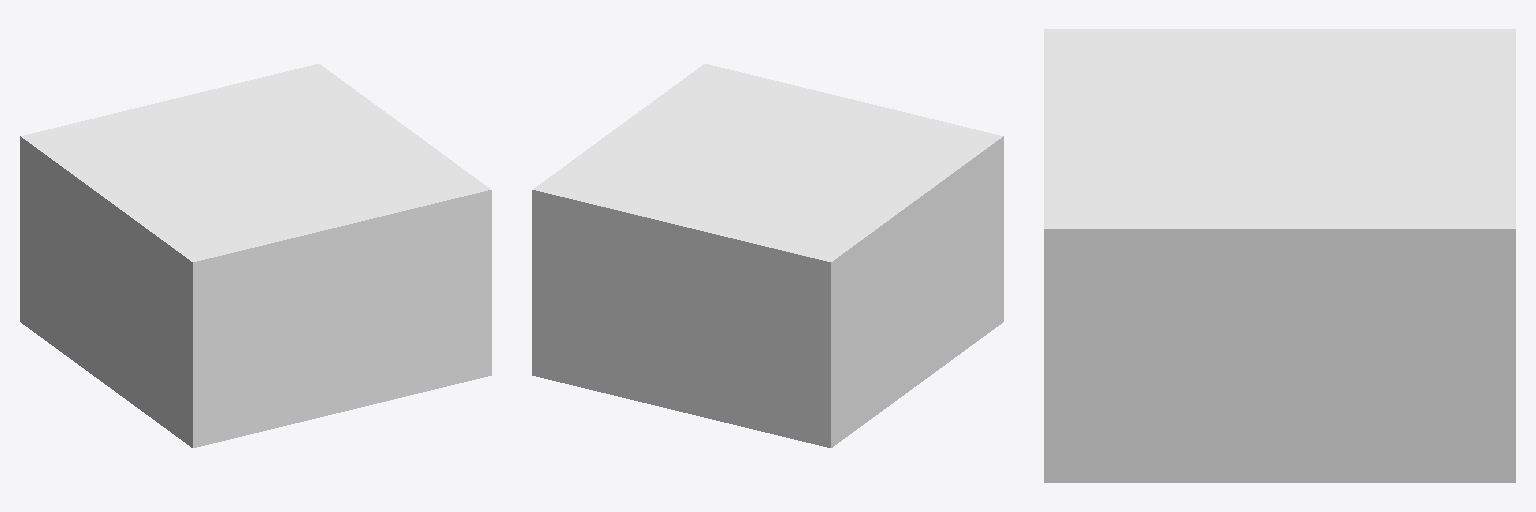
robot.urdf — rosbot:
<?xml version="1.0" ?>
<robot name="rosbot">
  <link name="base_link"/>

  <joint name="base_to_body_joint" type="fixed">
    <origin rpy="0.0 0.0 0.0" xyz="0.0 0.0 0.0425"/>
    <parent link="base_link"/>
    <child link="body_link"/>
  </joint>

  <link name="body_link">
    <visual>
      <geometry><box size="0.205 0.205 0.122"/></geometry>
      <origin rpy="0.0 0.0 0.0" xyz="0.0 0.0 0.0"/>
      <material name="White"><color rgba="1.0 1.0 1.0 1.0"/></material>
    </visual>
    <collision>
      <geometry><box size="0.205 0.205 0.122"/></geometry>
      <origin rpy="0.0 0.0 0.0" xyz="0.0 0.0 0.02"/>
    </collision>
    <inertial>
      <mass value="2.0"/>
      <inertia ixx="0.00721" ixy="0" ixz="0" iyy="0.01035" iyz="0" izz="0.01006"/>
    </inertial>
  </link>
  <gazebo reference="body_link"><material>Gazebo/White</material></gazebo>

  <joint name="body_to_cover_joint" type="fixed">
    <origin rpy="0.0 0.0 0.0" xyz="0.0 0.0 0.0603"/>
    <parent link="body_link"/>
    <child link="cover_link"/>
  </joint>

  <link name="cover_link">
    <visual>
      <geometry>
        <mesh filename="file://[local-path]/ROS2_PG/install/rosbot_description/share/rosbot_description/meshes/cover.stl"
              scale="0.001 0.001 0.001"/>
      </geometry>
      <origin rpy="1.5707963267948966 0.0 3.141592653589793" xyz="0.0 0.0 -0.002"/>
      <material name="Red"><color rgba="0.8 0.0 0.0 1.0"/></material>
    </visual>
    <gazebo reference="cover_link"><material>Gazebo/Red</material></gazebo>
  </link>

  <joint name="body_to_imu_joint" type="fixed">
    <origin rpy="0.0 0.0 0.0" xyz="0.003 -0.0495 0.04332"/>
    <parent link="body_link"/>
    <child link="imu_link"/>
  </joint>
  <link name="imu_link"/>

  <joint name="fl_range_joint" type="fixed">
    <axis xyz="0 1 0"/>
    <origin rpy="0 0 0.218" xyz="0.0926 0.05 0.015"/>
    <parent link="body_link"/><child link="fl_range"/>
  </joint>
  <link name="fl_range"/>
  <joint name="fr_range_joint" type="fixed">
    <axis xyz="0 1 0"/>
    <origin rpy="0 0 -0.218" xyz="0.0926 -0.05 0.015"/>
    <parent link="body_link"/><child link="fr_range"/>
  </joint>
  <link name="fr_range"/>
  <joint name="rl_range_joint" type="fixed">
    <axis xyz="0 1 0"/>
    <origin rpy="0 0 2.924" xyz="-0.0926 0.05 0.0115"/>
    <parent link="body_link"/><child link="rl_range"/>
  </joint>
  <link name="rl_range"/>
  <joint name="rr_range_joint" type="fixed">
    <axis xyz="0 1 0"/>
    <origin rpy="0 0 3.360" xyz="-0.0926 -0.05 0.0115"/>
    <parent link="body_link"/><child link="rr_range"/>
  </joint>
  <link name="rr_range"/>

  <joint name="fl_wheel_joint" type="continuous">
    <parent link="body_link"/><child link="fl_wheel_link"/>
    <origin rpy="0.0 0.0 0.0" xyz="0.053 0.096 0.0"/>
    <axis xyz="0.0 1.0 0.0"/>
  </joint>
  <link name="fl_wheel_link">
    <inertial>
      <mass value="0.100"/>
      <inertia ixx="0.00007" ixy="0.0" ixz="0.0" iyy="0.0001263" iyz="0.0" izz="0.00007"/>
    </inertial>
  </link>

  <joint name="fr_wheel_joint" type="continuous">
    <parent link="body_link"/><child link="fr_wheel_link"/>
    <origin rpy="0.0 0.0 0.0" xyz="0.053 -0.096 0.0"/>
    <axis xyz="0.0 1.0 0.0"/>
  </joint>
  <link name="fr_wheel_link">
    <inertial>
      <mass value="0.100"/>
      <inertia ixx="0.00007" ixy="0.0" ixz="0.0" iyy="0.0001263" iyz="0.0" izz="0.00007"/>
    </inertial>
  </link>

  <joint name="rl_wheel_joint" type="continuous">
    <parent link="body_link"/><child link="rl_wheel_link"/>
    <origin rpy="0.0 0.0 0.0" xyz="-0.053 0.096 0.0"/>
    <axis xyz="0.0 1.0 0.0"/>
  </joint>
  <link name="rl_wheel_link">
    <inertial>
      <mass value="0.100"/>
      <inertia ixx="0.00007" ixy="0.0" ixz="0.0" iyy="0.0001263" iyz="0.0" izz="0.00007"/>
    </inertial>
  </link>

  <joint name="rr_wheel_joint" type="continuous">
    <parent link="body_link"/><child link="rr_wheel_link"/>
    <origin rpy="0.0 0.0 0.0" xyz="-0.053 -0.096 0.0"/>
    <axis xyz="0.0 1.0 0.0"/>
  </joint>
  <link name="rr_wheel_link">
    <inertial>
      <mass value="0.100"/>
      <inertia ixx="0.00007" ixy="0.0" ixz="0.0" iyy="0.0001263" iyz="0.0" izz="0.00007"/>
    </inertial>
  </link>

  <joint name="cover_to_slamtec_rplidar_a2_joint" type="fixed">
    <origin rpy="0.0 0.0 0.0" xyz="0.02 0.0 0.0"/>
    <parent link="cover_link"/><child link="slamtec_rplidar_a2_link"/>
  </joint>
  <link name="slamtec_rplidar_a2_link">
    <inertial>
      <origin rpy="0.0 0.0 0.0" xyz="0.0 0.0 0.0205"/>
      <mass value="0.190"/>
      <inertia ixx="0.000095206" ixy="0.0" ixz="0.0" iyy="0.000095206" iyz="0.0" izz="0.00013718"/>
    </inertial>
  </link>

  <joint name="body_to_camera_joint" type="fixed">
    <origin rpy="0.0 0.0 0.0" xyz="-0.0141 0.0 0.125"/>
    <parent link="body_link"/><child link="camera_link"/>
  </joint>
  <link name="camera_link"/>

  <joint name="camera_to_camera_orbbec_astra_joint" type="fixed">
    <origin rpy="0.0 0.0 0.0" xyz="0.0 0.0 0.0"/>
    <parent link="camera_link"/><child link="camera_orbbec_astra_link"/>
  </joint>
  <link name="camera_orbbec_astra_link">
    <inertial>
      <origin rpy="0.0 0.0 0.0" xyz="0.0 0.0 0.028999999999999998"/>
      <mass value="0.300"/>
      <inertia ixx="0.00073916" ixy="0.0" ixz="0.0" iyy="0.00015435" iyz="0.0" izz="0.00077395"/>
    </inertial>
  </link>

  <joint name="camera_orbbec_astra_to_camera_depth_frame_joint" type="fixed">
    <origin rpy="-1.5707963267948966 0.0 -1.5707963267948966" xyz="0.01 0.0 0.035"/>
    <parent link="camera_orbbec_astra_link"/>
    <child link="camera_depth_frame"/>
  </joint>
  <link name="camera_depth_frame"/>
</robot>

--- Facts derived from the render (not from the file) ---
3 views of the same robot in one strip: view 1: azimuth 30°, elevation 25°; view 2: azimuth 150°, elevation 25°; view 3: azimuth 270°, elevation 25° (orthographic).
Model rosbot with 16 links and 15 joints (4 continuous, 11 fixed), rooted at base_link, posed all joints at 0.
Visible links, largest first — view 1: body_link; view 2: body_link; view 3: body_link.
Boxes of the visible links, x1=… form: body_link: x1=20, y1=64, x2=491, y2=447; body_link: x1=532, y1=64, x2=1003, y2=447; body_link: x1=1044, y1=29, x2=1515, y2=482.
Size in the robot's own frame: 0.205 by 0.205 by 0.122 metres.
Geometry: only primitive shapes (box / cylinder / sphere) drawn; not drawn: 1 mesh visual (reference in a form the renderer does not follow).